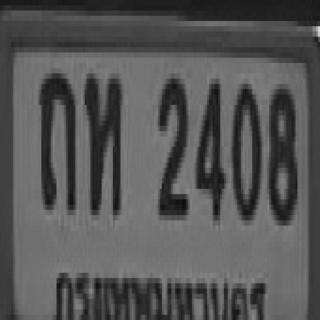A22: (38, 68, 75, 210)
A41: (83, 68, 121, 210)
N00: (230, 79, 260, 215)
N02: (156, 73, 186, 215)
N04: (194, 73, 222, 215)
N08: (267, 79, 296, 220)
